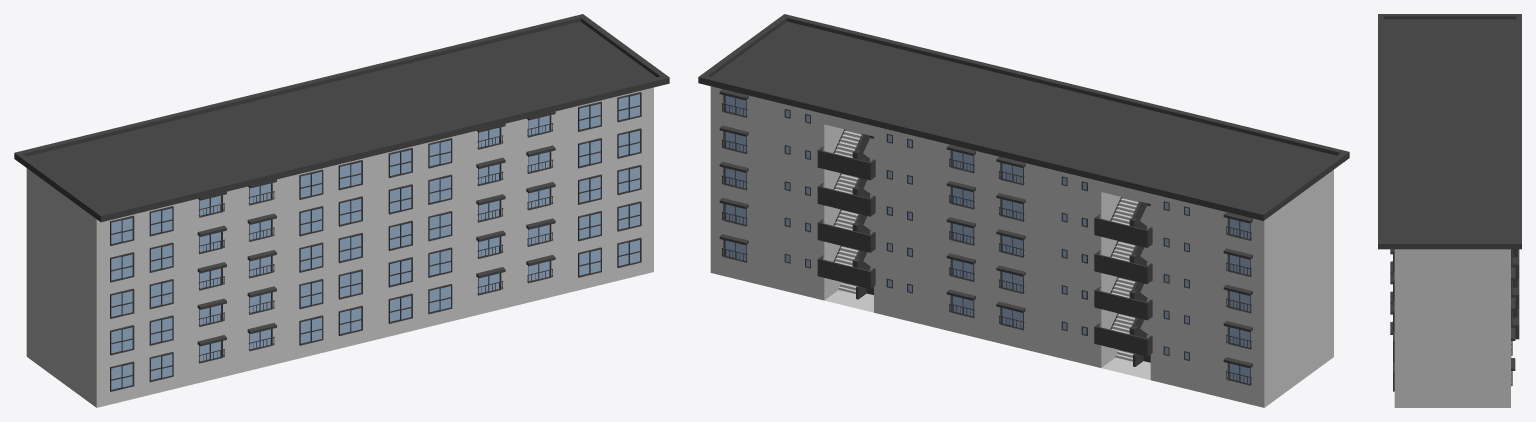
File: APT.fbx
3 views of the same model, side by side, from view 1: azimuth 30°, elevation 25°; view 2: azimuth 150°, elevation 25°; view 3: azimuth 270°, elevation 25° (orthographic). The views are drawn at different scales.
Visible parts, largest first — view 1: HC_dummy_1_LOD0.001; view 2: HC_dummy_1_LOD0.001; view 3: HC_dummy_1_LOD0.001.
Boxes of the visible parts, bbox=[...] form: HC_dummy_1_LOD0.001: bbox=[14, 14, 669, 407]; HC_dummy_1_LOD0.001: bbox=[698, 14, 1349, 407]; HC_dummy_1_LOD0.001: bbox=[1378, 14, 1521, 407].
Size of the model in its own units: 4900 by 1650 by 1295.
